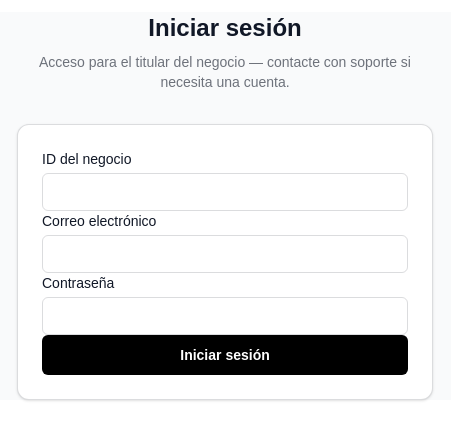
AdminLoginForm › shows server validation feedback when login fails
Type "client-a" into the field labelled "ID del negocio" at [225, 192], box [42, 173, 408, 211]
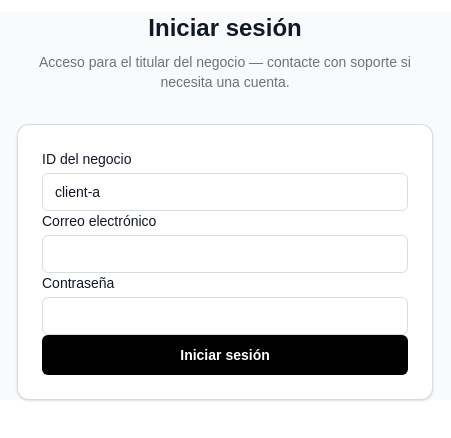
Type "a@b.co" into the field labelled "Correo electrónico" at [225, 254], box [42, 235, 408, 273]
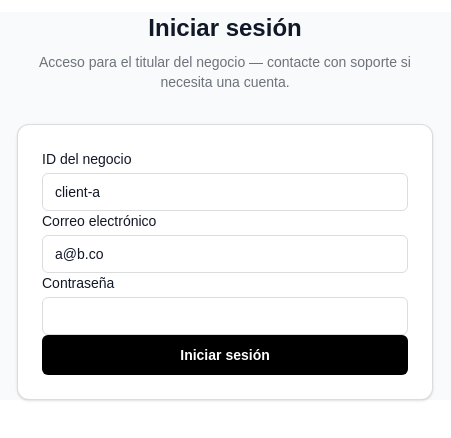
Type "x" into the password field labelled "Contraseña" at [225, 316], box [42, 297, 408, 335]
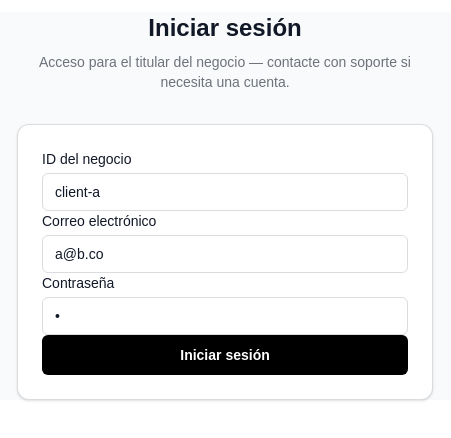
Click the button "Iniciar sesión" at [225, 355], box [42, 335, 408, 375]
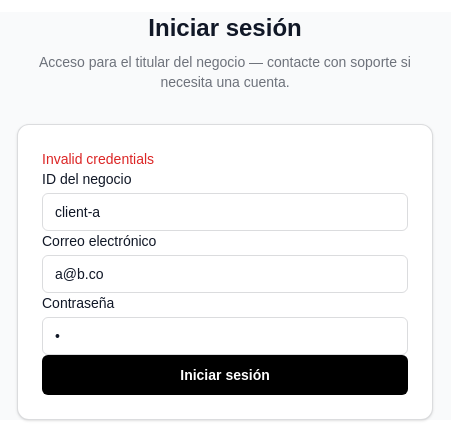
Now the message reads "Invalid credentials", box [42, 151, 154, 167]
